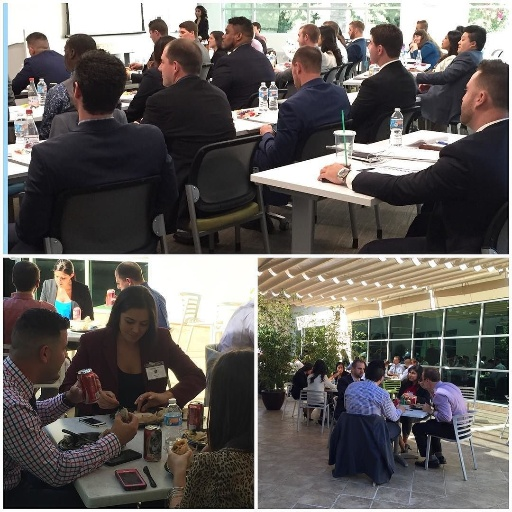hand: (67, 371, 100, 403), (109, 411, 137, 448), (134, 388, 166, 412), (316, 161, 349, 184), (166, 448, 190, 472), (96, 389, 119, 408), (258, 122, 273, 136), (419, 402, 431, 414), (408, 66, 426, 73), (127, 61, 142, 69), (417, 83, 430, 92), (144, 58, 155, 68), (395, 405, 406, 413), (418, 380, 425, 389), (124, 69, 129, 80), (407, 43, 413, 51), (410, 41, 417, 47), (272, 67, 282, 71), (385, 371, 392, 375), (331, 373, 338, 376), (392, 372, 397, 376)
